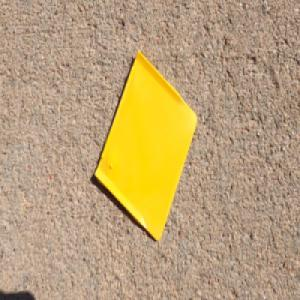PlasticPart: (92, 47, 198, 243)
